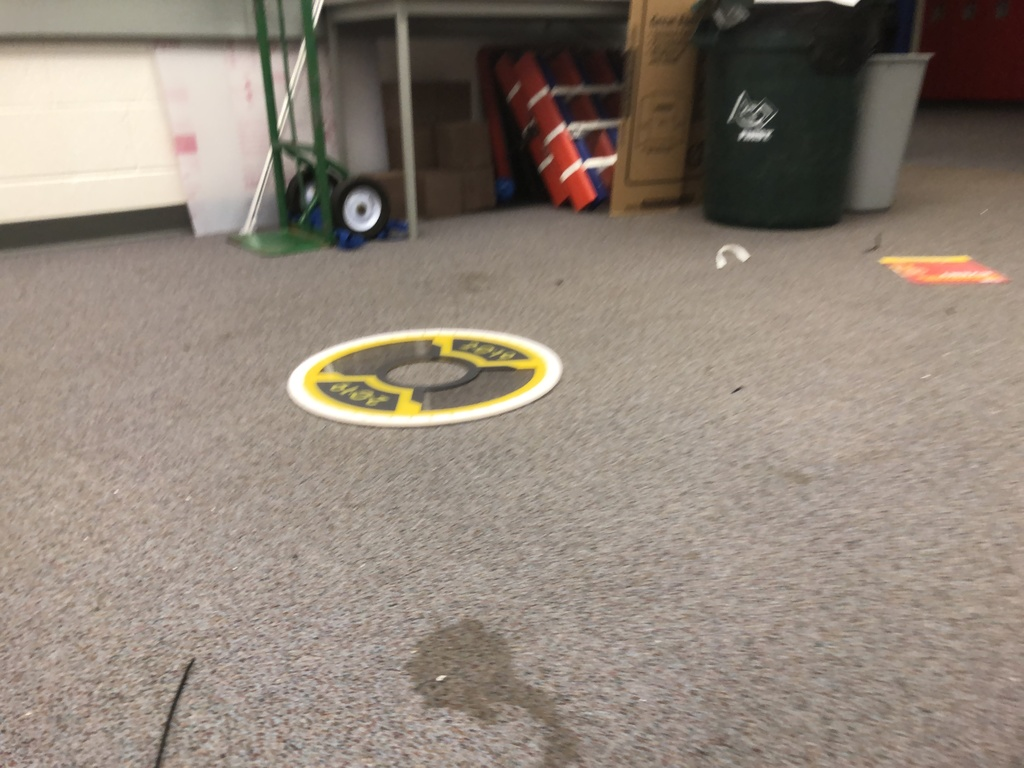hatch_panel: (279, 317, 577, 432)
